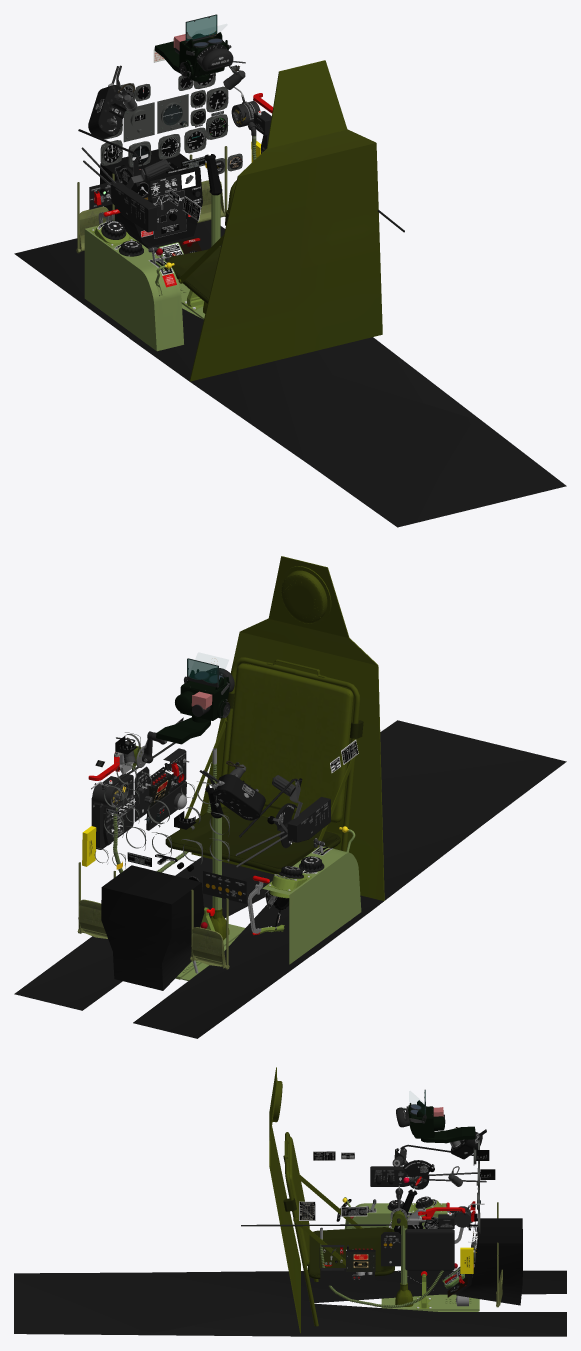
Rendered from p51d_pit.glb.
3 views of the same model, one above another, from view 1: azimuth 30°, elevation 25°; view 2: azimuth 150°, elevation 25°; view 3: azimuth 270°, elevation 25° (orthographic). The views are drawn at different scales.
Visible parts, largest first — view 1: seatAndArmor, CockpitFloor-black, LeftCockpitConsole, ConsolePanel, left-switch-box, body, rocket-controls-panel, Stick, plate; view 2: seatAndArmor, CockpitFloor-black, ConsolePanel, LeftCockpitConsole, body, left-switch-box, LeftRudderPedal, electric-panel, engine-sw-plate, Stick, RightRudderPedal, rear-mount (+4 smaller); view 3: CockpitFloor-black, seatAndArmor, ConsolePanel, electric-panel, LeftCockpitConsole, AN/APS-13-bell-panel, APS-13-plate, left-switch-box, rear-mount, Cylinder, Stick, Ox-Hose (+5 smaller).
Part boxes in pixels (x1,y1,x2,y2): seatAndArmor: (164, 60, 382, 381); CockpitFloor-black: (14, 220, 566, 527); LeftCockpitConsole: (84, 225, 183, 351); ConsolePanel: (100, 149, 202, 248); left-switch-box: (111, 182, 157, 232); body: (88, 85, 127, 138); rocket-controls-panel: (152, 190, 186, 238); Stick: (204, 154, 222, 246); plate: (123, 102, 154, 142); seatAndArmor: (165, 556, 384, 900); CockpitFloor-black: (14, 720, 566, 1038); ConsolePanel: (101, 865, 204, 990); LeftCockpitConsole: (262, 846, 361, 964); body: (213, 774, 265, 820); left-switch-box: (287, 797, 330, 842); LeftRudderPedal: (191, 927, 225, 968); electric-panel: (91, 773, 133, 849); engine-sw-plate: (203, 871, 246, 903); Stick: (205, 785, 223, 909); RightRudderPedal: (78, 899, 107, 938); rear-mount: (156, 717, 209, 744); CockpitFloor-black: (14, 1270, 566, 1336); seatAndArmor: (269, 1067, 394, 1333); ConsolePanel: (456, 1218, 522, 1305); electric-panel: (405, 1229, 454, 1270); LeftCockpitConsole: (344, 1203, 447, 1229); AN/APS-13-bell-panel: (320, 1268, 374, 1285); APS-13-plate: (381, 1232, 401, 1266); left-switch-box: (370, 1166, 409, 1186); rear-mount: (428, 1126, 475, 1143); Cylinder: (403, 1160, 432, 1189); Stick: (401, 1189, 417, 1284); Ox-Hose: (320, 1239, 443, 1307).
Size of the model in its own units: 0.8052 by 1.21 by 2.59.
41 materials, 36 textured.
